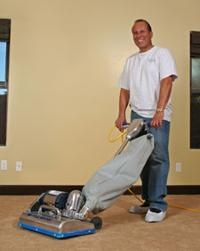person without safety: (112, 16, 179, 226)
